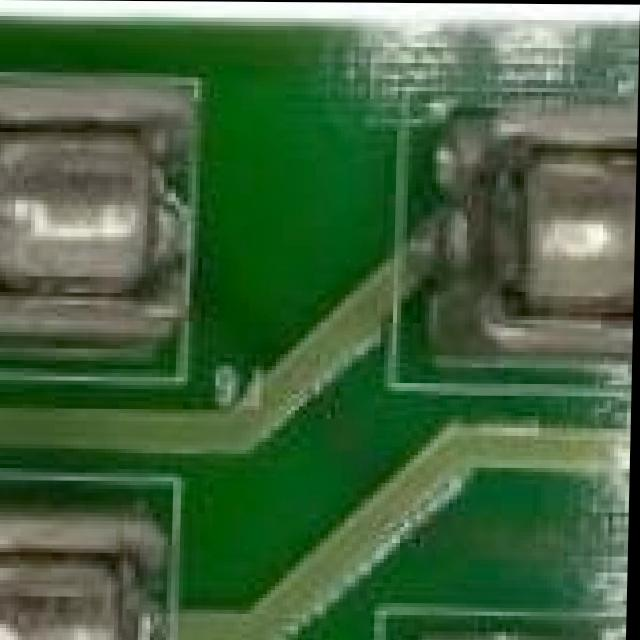fuse: (0, 56, 195, 353), (442, 99, 638, 372), (0, 460, 148, 640)
